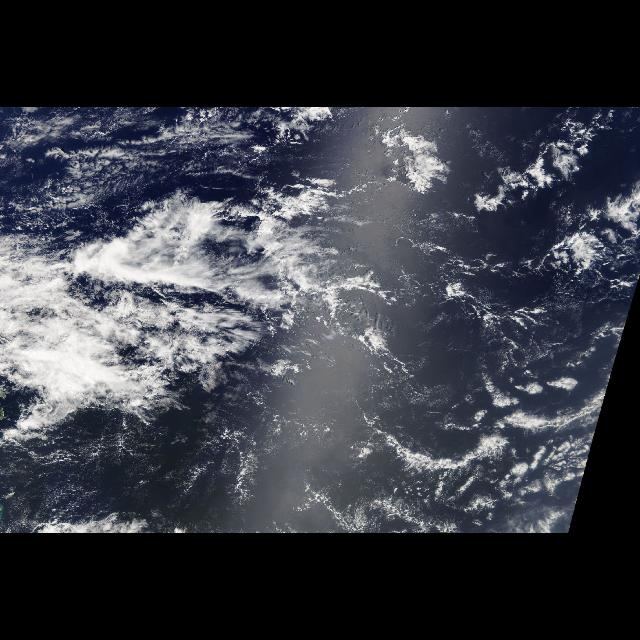Fish: (23, 110, 639, 328), (340, 343, 598, 479)
Sugar: (1, 424, 330, 478)
